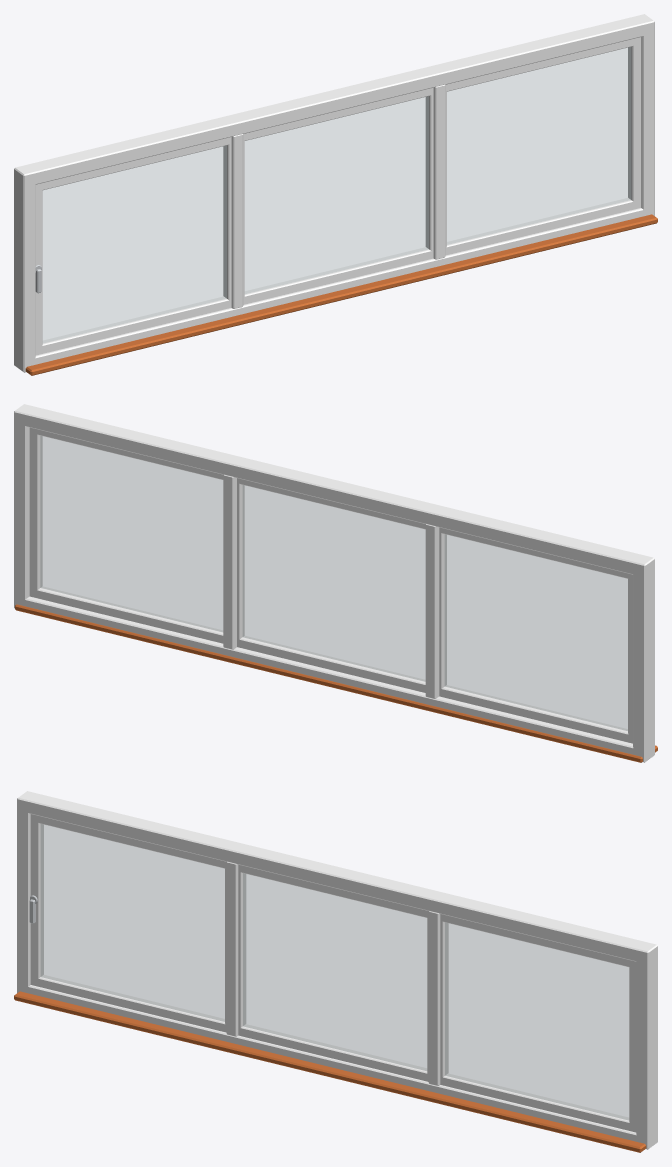
The model's file is window-strip-3000x900.glb.
The picture shows the model from 3 angles, top to bottom: view 1: azimuth 30°, elevation 25°; view 2: azimuth 150°, elevation 25°; view 3: azimuth 330°, elevation 25°; orthographic projection.
Visible parts, largest first — view 1: window-strip-3000x900.glass, window-strip-3000x900.tint, window-strip-3000x900.accent; view 2: window-strip-3000x900.glass, window-strip-3000x900.tint, window-strip-3000x900.accent; view 3: window-strip-3000x900.glass, window-strip-3000x900.tint, window-strip-3000x900.accent.
Boxes of the visible parts, x1=… form: window-strip-3000x900.glass: x1=43, y1=47, x2=630, y2=343; window-strip-3000x900.tint: x1=14, y1=14, x2=654, y2=372; window-strip-3000x900.accent: x1=25, y1=214, x2=657, y2=375; window-strip-3000x900.glass: x1=40, y1=436, x2=627, y2=730; window-strip-3000x900.tint: x1=14, y1=404, x2=654, y2=762; window-strip-3000x900.accent: x1=15, y1=604, x2=657, y2=762; window-strip-3000x900.glass: x1=41, y1=824, x2=628, y2=1120; window-strip-3000x900.tint: x1=17, y1=791, x2=657, y2=1149; window-strip-3000x900.accent: x1=14, y1=991, x2=646, y2=1152.
Size of the model in its own units: 3 by 0.9 by 0.14.
